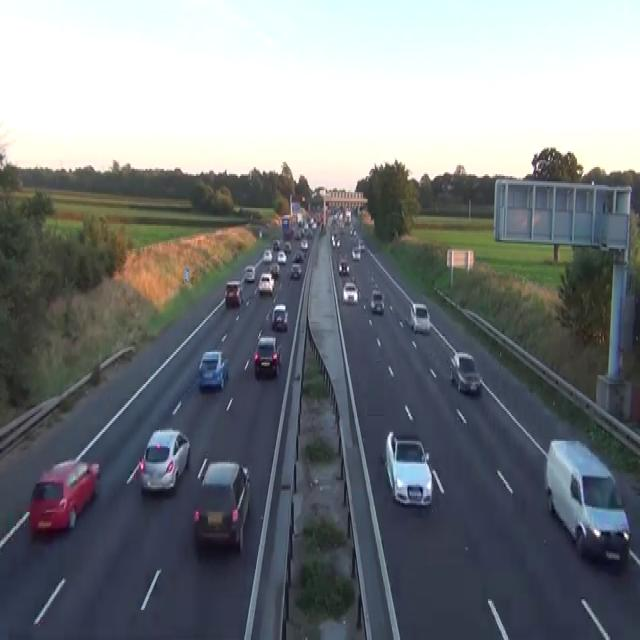Car: (29, 457, 100, 535), (193, 457, 250, 553), (383, 430, 433, 507), (138, 427, 190, 492), (449, 350, 481, 395), (253, 334, 281, 379), (198, 350, 228, 391), (409, 302, 430, 334), (224, 279, 243, 308), (271, 304, 288, 331), (342, 281, 359, 304), (258, 272, 274, 295), (370, 288, 384, 313), (290, 261, 301, 279), (330, 231, 340, 249), (244, 265, 255, 281), (338, 260, 349, 276), (268, 262, 279, 278), (262, 247, 272, 261), (351, 246, 360, 260), (277, 249, 286, 263), (300, 238, 308, 251), (271, 215, 280, 226), (283, 240, 291, 252), (358, 238, 365, 251), (294, 251, 303, 261), (272, 238, 280, 249), (308, 217, 316, 227), (293, 228, 301, 238), (330, 233, 336, 245), (368, 274, 374, 284), (349, 226, 355, 236), (339, 222, 344, 233), (336, 238, 340, 247), (259, 230, 262, 238)
Truck: (545, 438, 631, 566)
